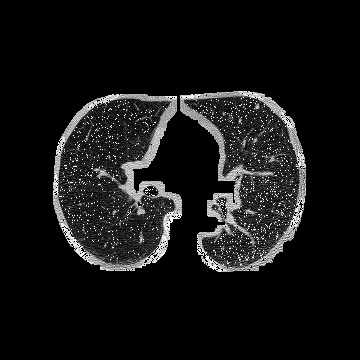PN: (255, 104, 259, 108)
